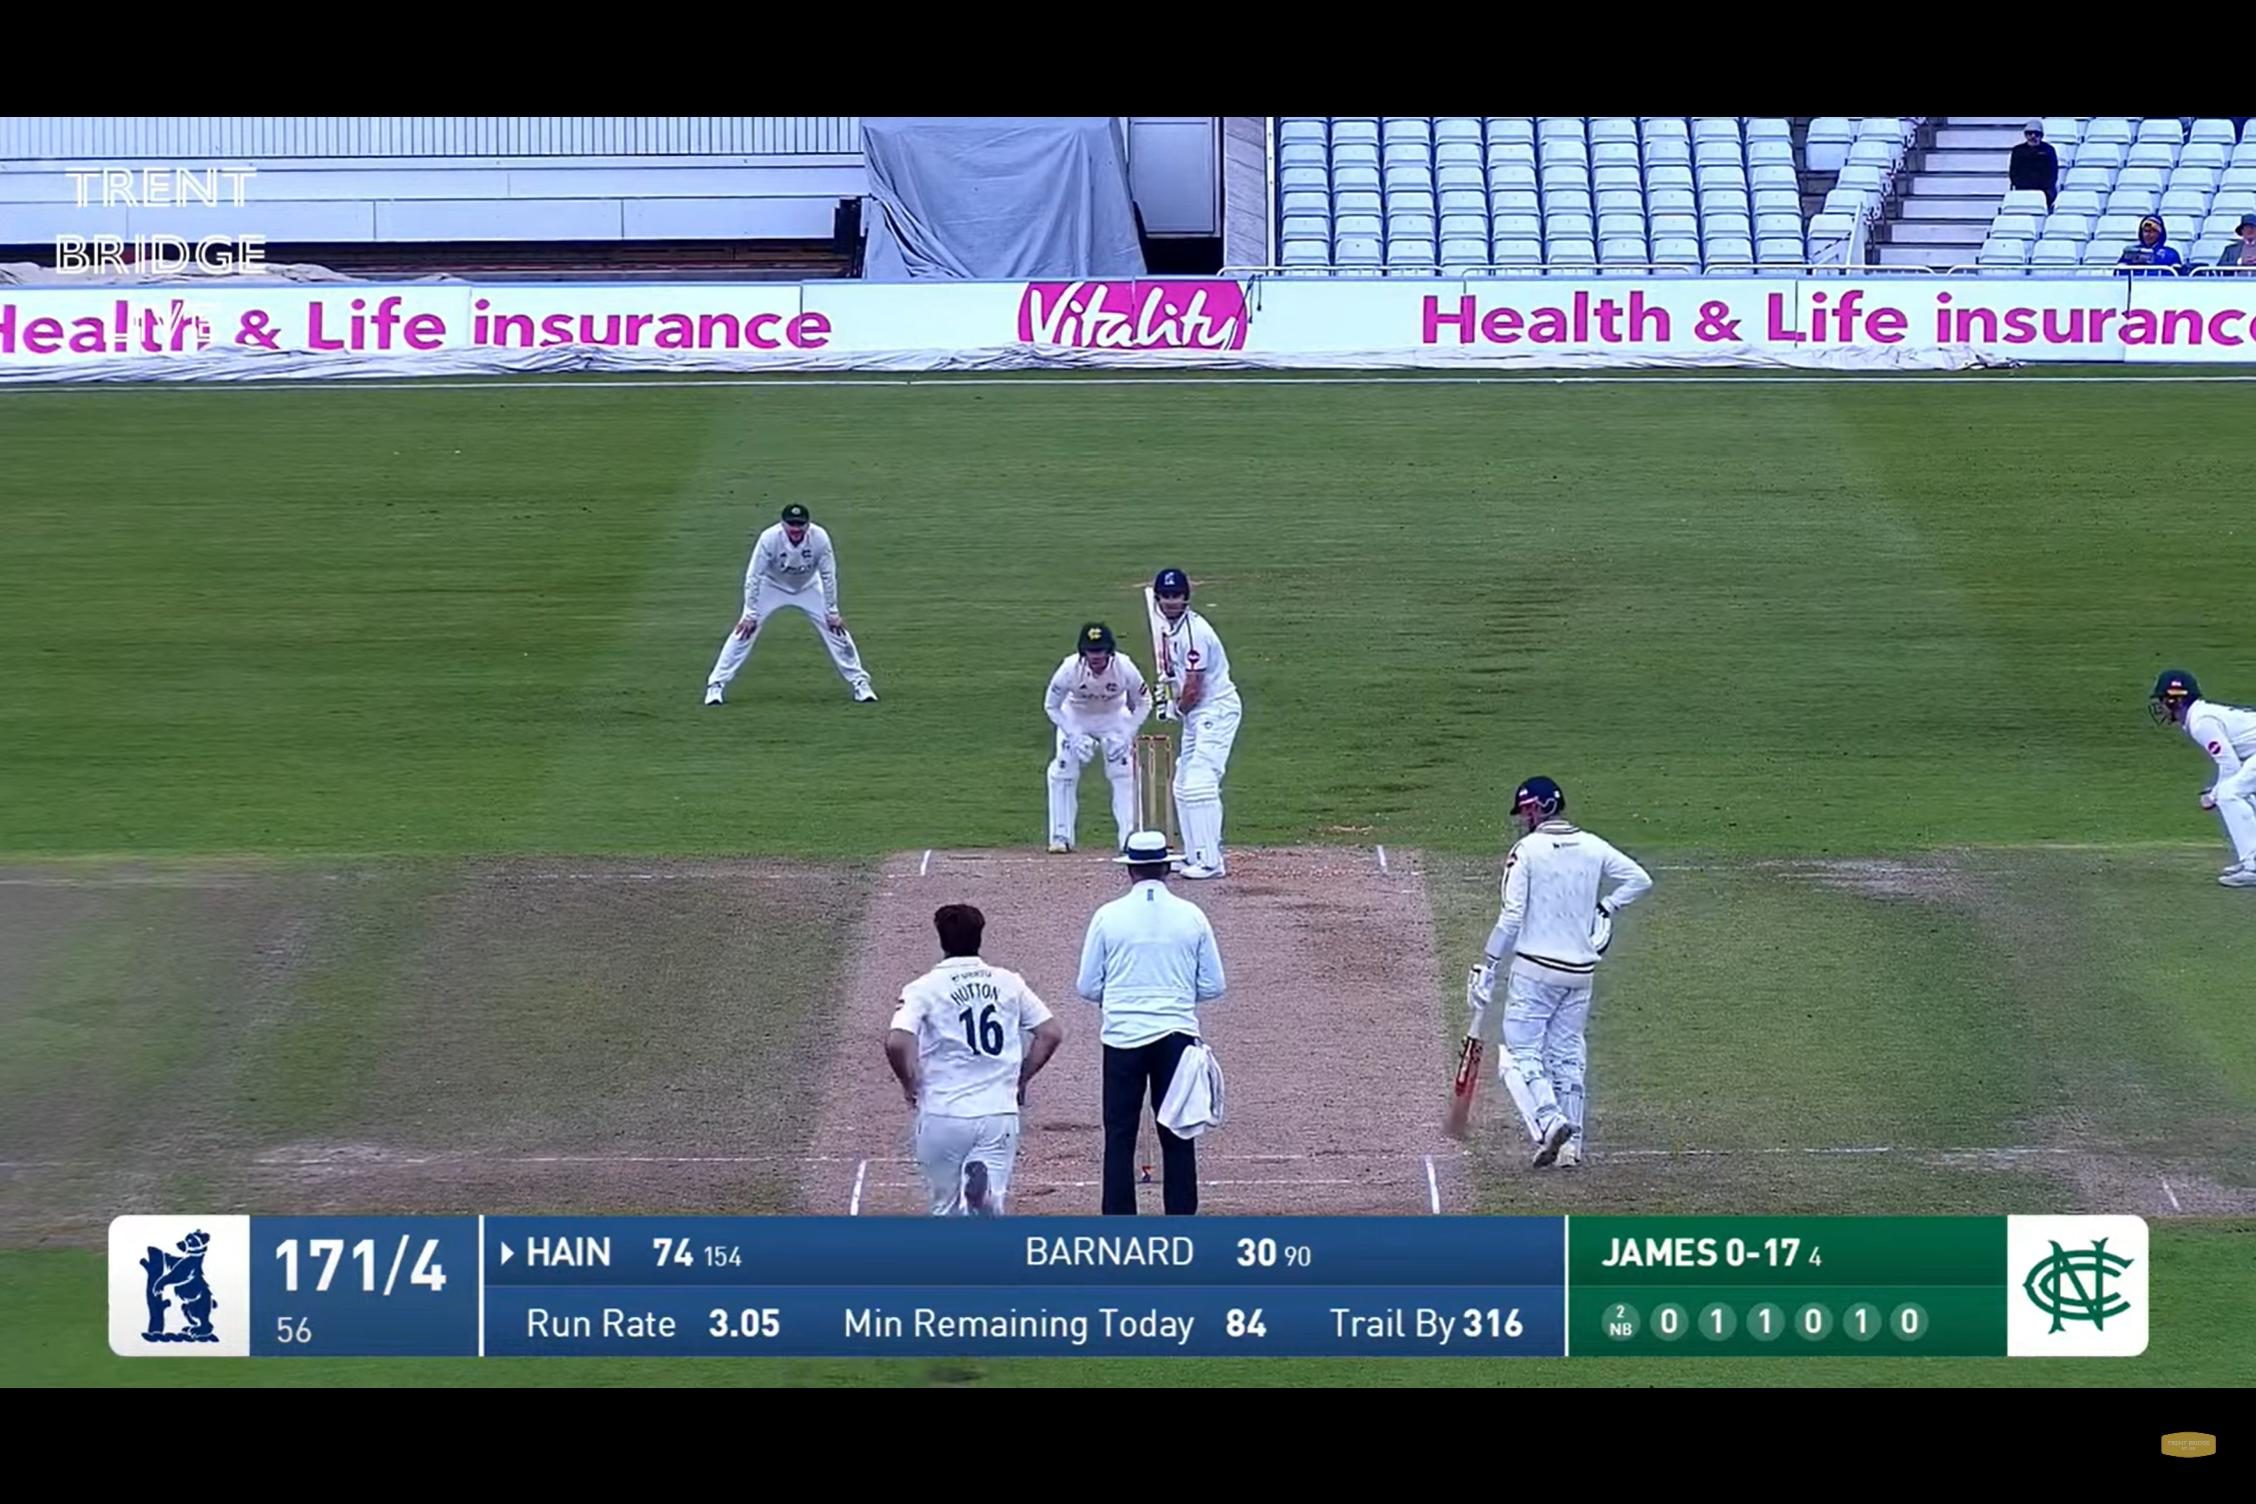bowler running in: (846, 868, 1069, 1205)
non striker: (1408, 770, 1694, 1200)
umpire: (1081, 821, 1247, 1219)
